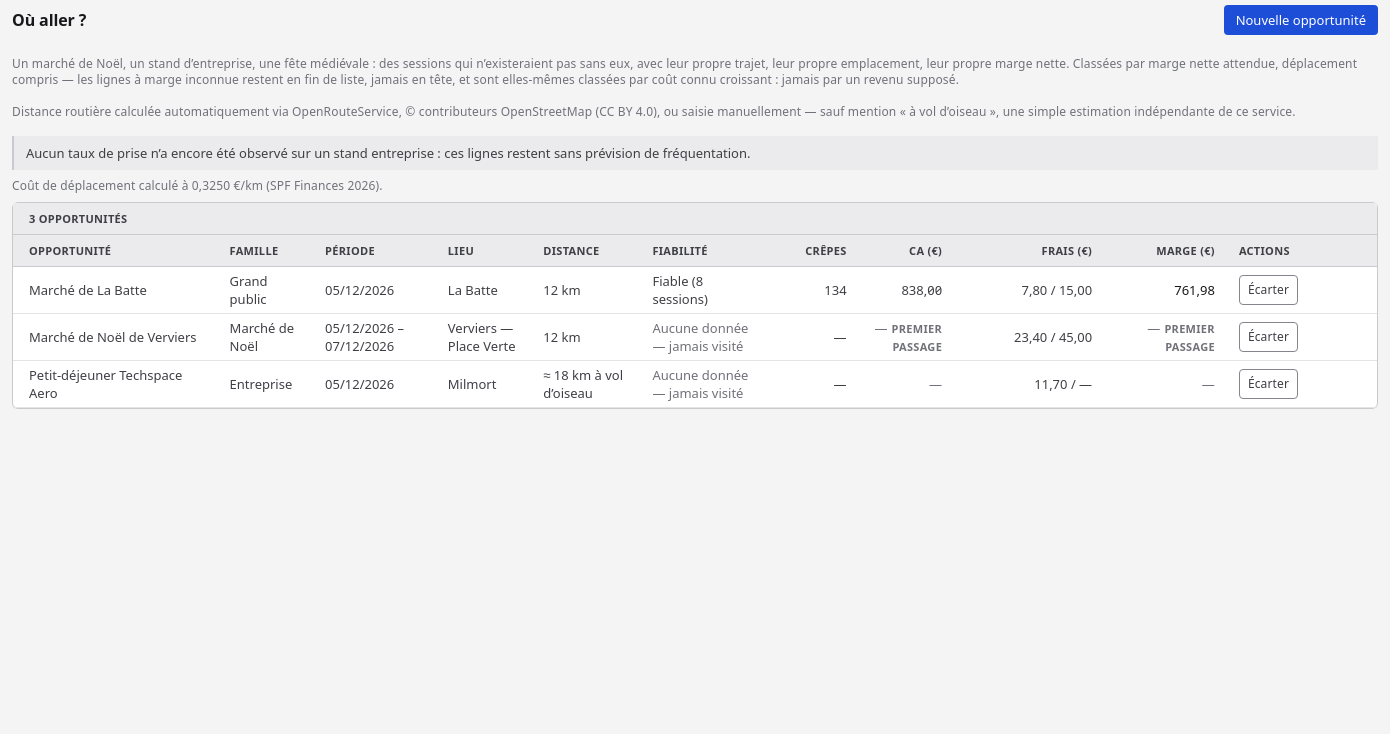
Scenario: Opportunités — écarter, créer, clavier › ouvrir le formulaire y amène le focus ; Échap le referme et rend le focus au bouton
The image size is (1390, 734).
Expected: the row "Marché de La Batte" is shown, [13, 267, 1377, 314]
Click the button "Nouvelle opportunité": (1301, 20) [1224, 5, 1378, 35]
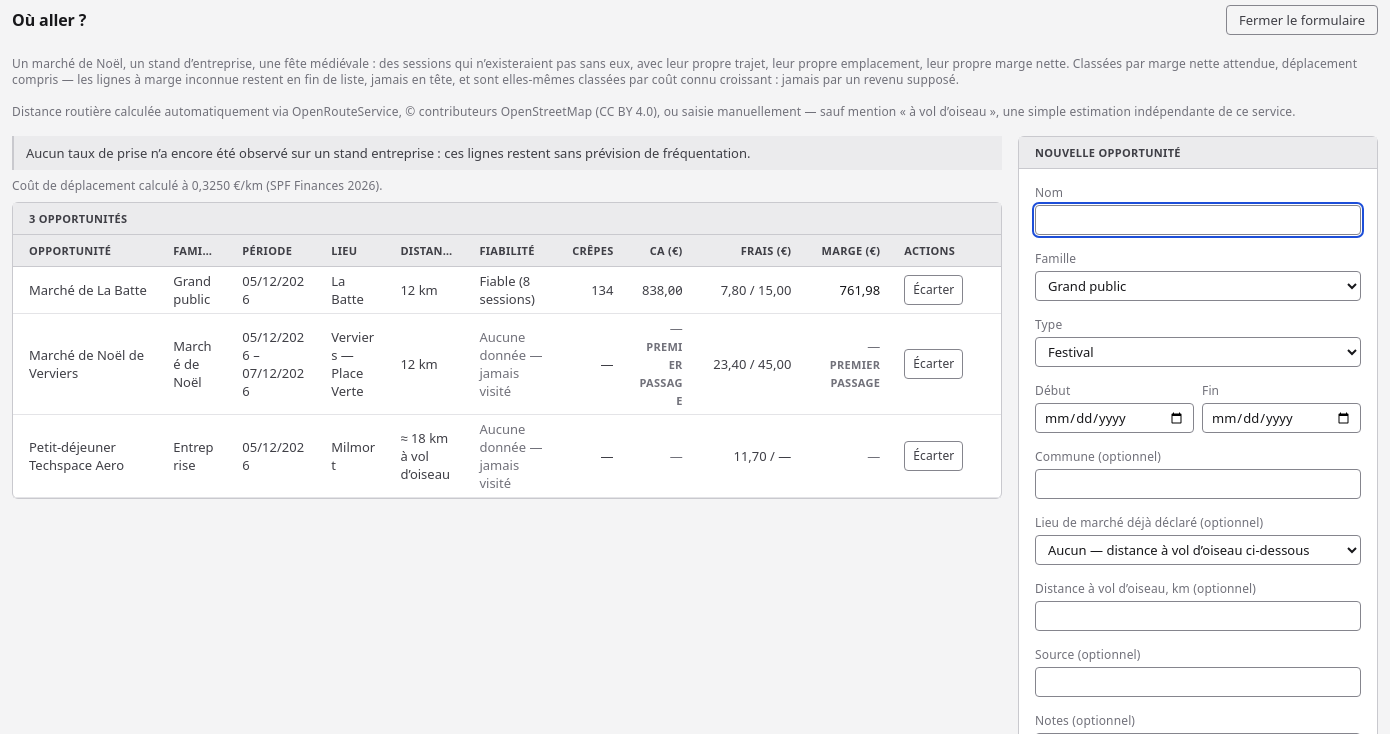
Expected: the field with id "opp-nom" is shown, [1035, 205, 1361, 235]
Press Escape
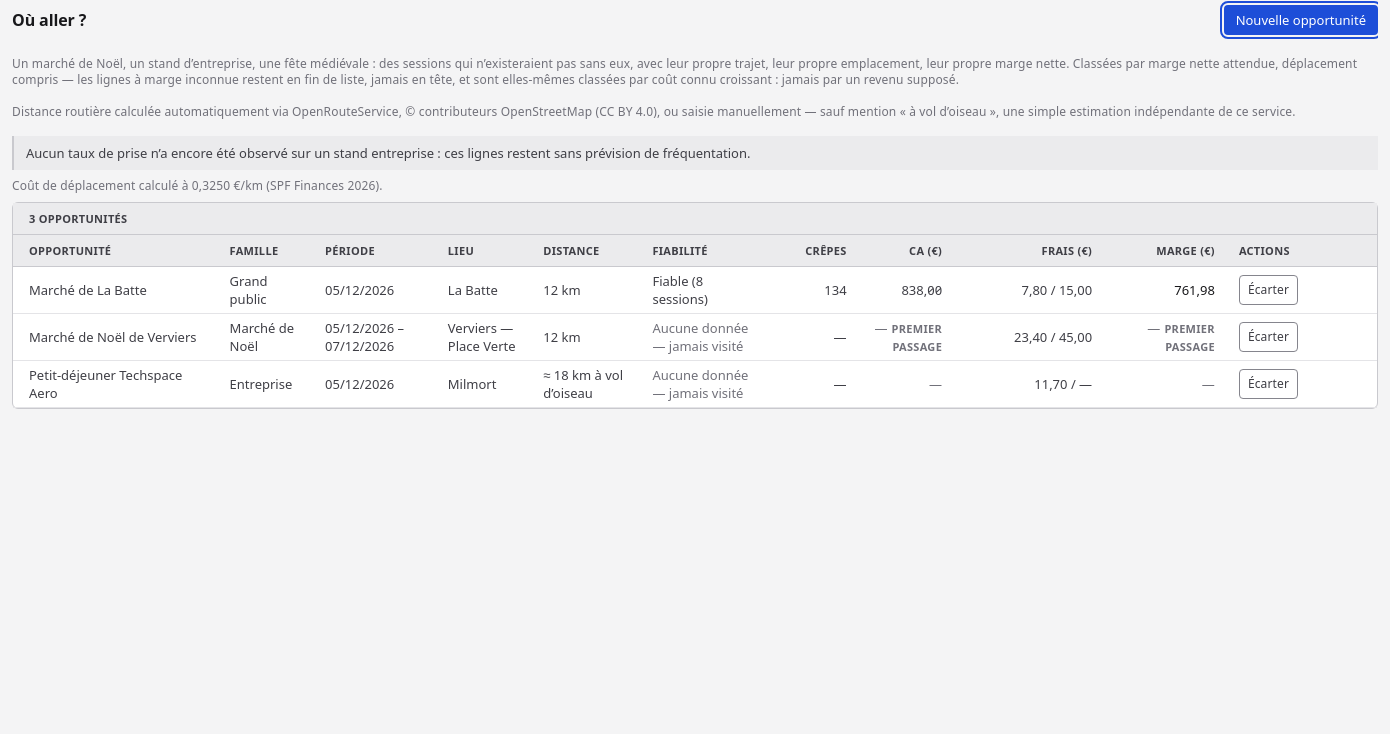
Expected: the label with id "opp-nom" is gone
